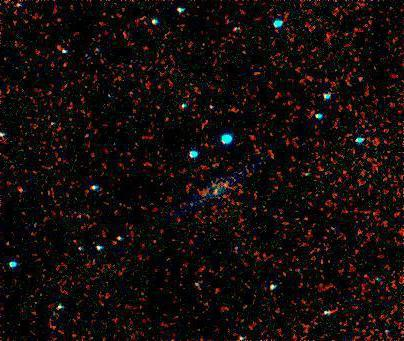star: (212, 170, 242, 200)
